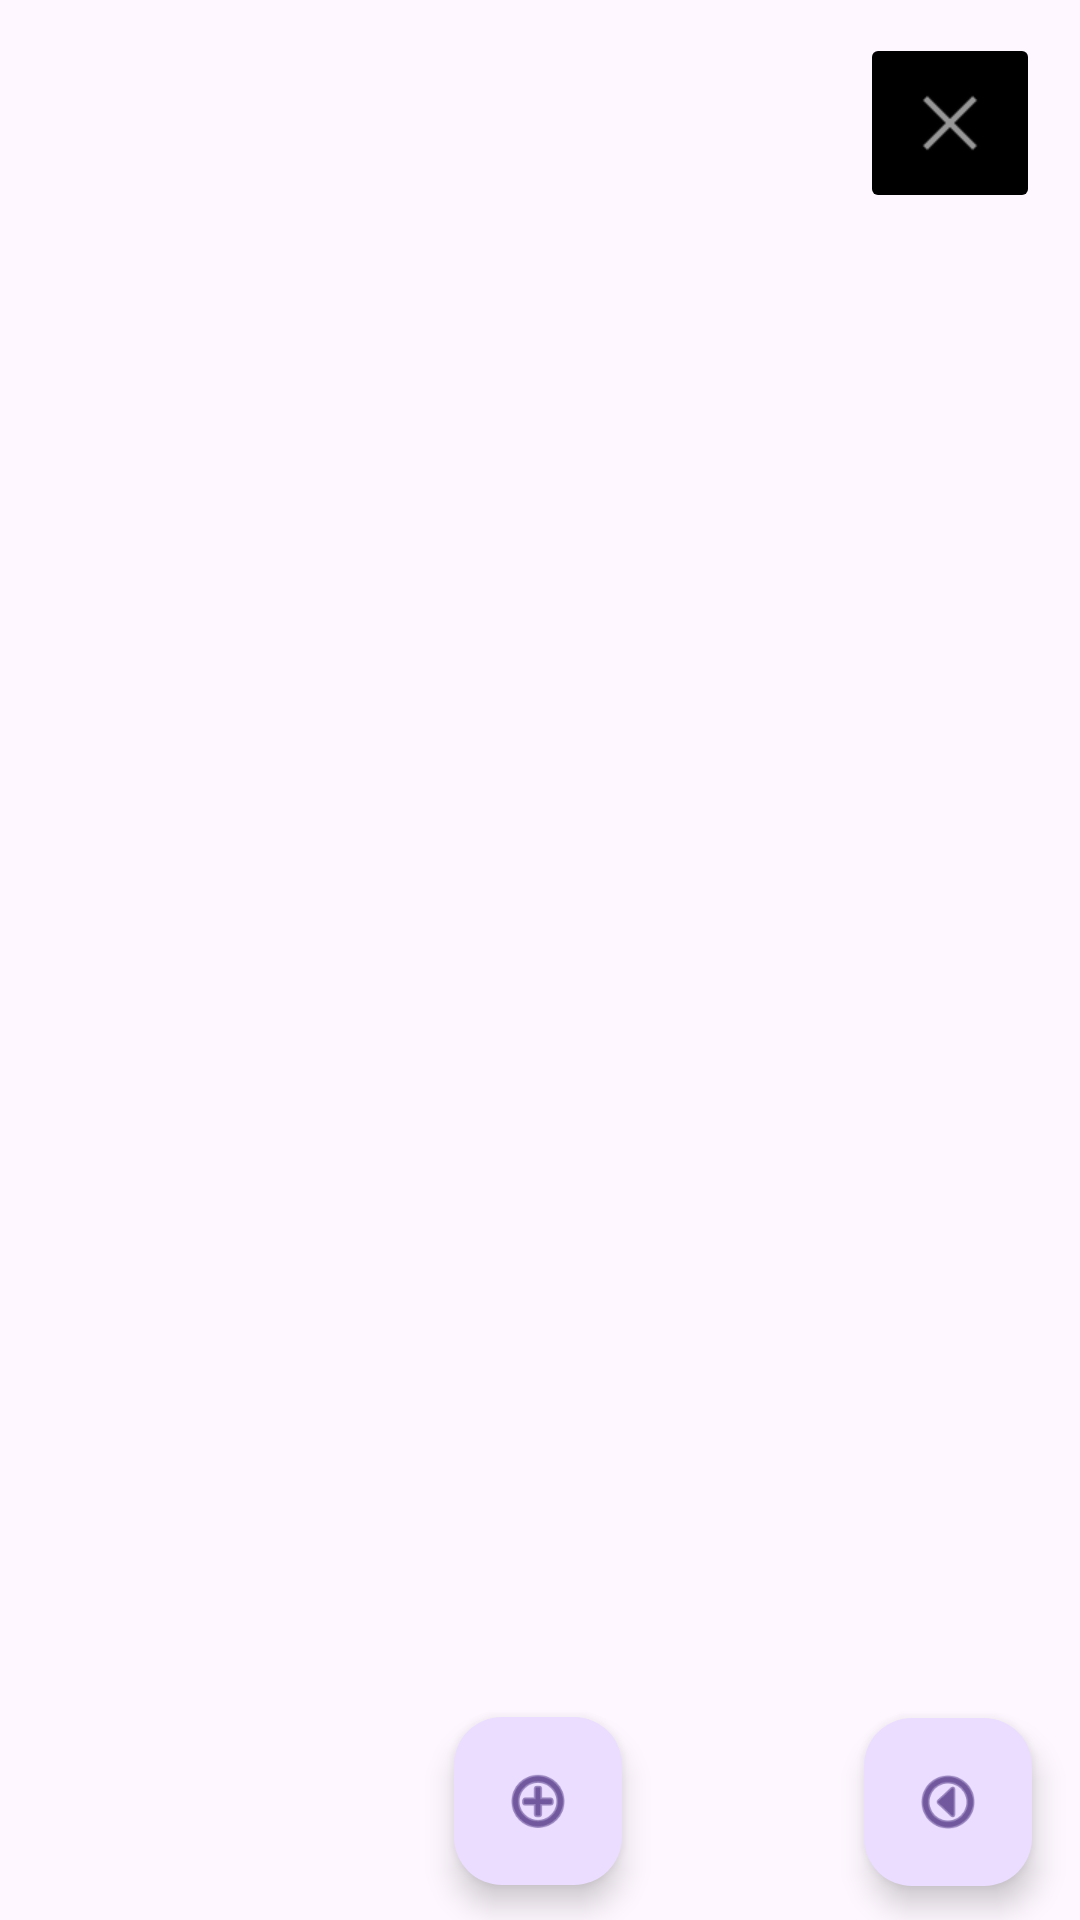

Icons on this 1080w x 1920h Android screen, each with its box as (x1, y1, x2, y2):
add: (454, 1717, 622, 1885)
close clear cancel: (872, 51, 1028, 195)
